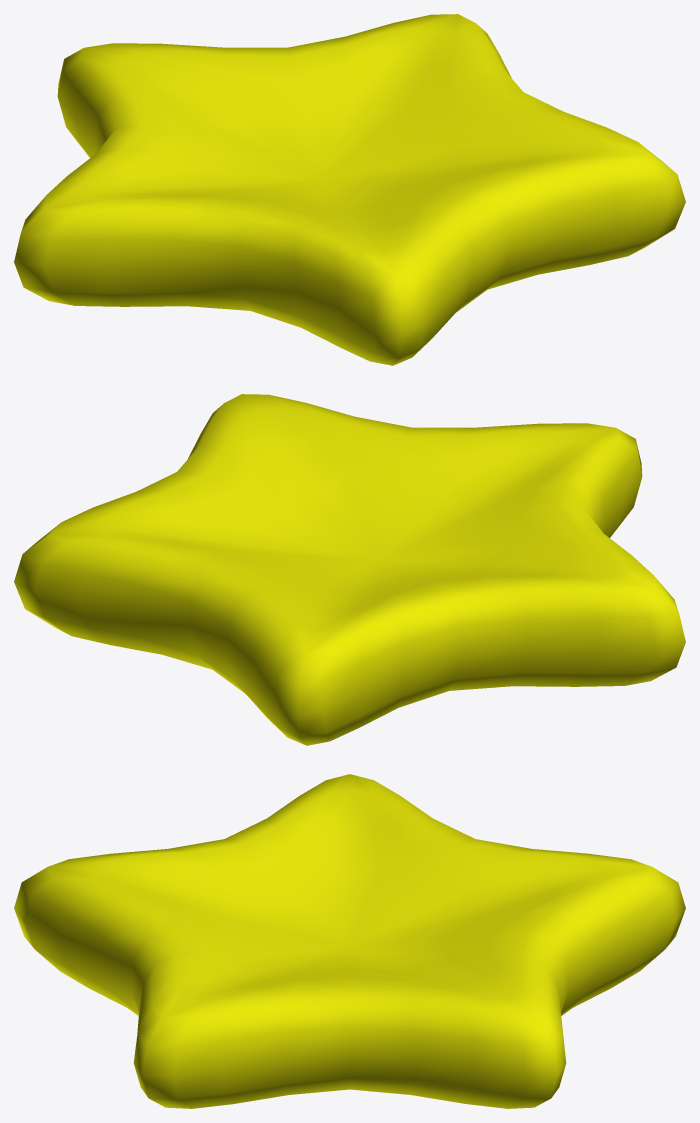
Rendered from star12.fbx.
The picture shows the model from 3 angles, top to bottom: view 1: azimuth 30°, elevation 25°; view 2: azimuth 150°, elevation 25°; view 3: azimuth 270°, elevation 25°; orthographic projection. The views are drawn at different scales.
Parts seen in each view (by area): view 1: pCylinder1; view 2: pCylinder1; view 3: pCylinder1.
Boxes of the visible parts, x1,y1,x2,y2 form: pCylinder1: (14,14,685,365); pCylinder1: (14,394,685,745); pCylinder1: (14,774,685,1108).
Bounding box in the file's own units: 248 × 44.61 × 261.
